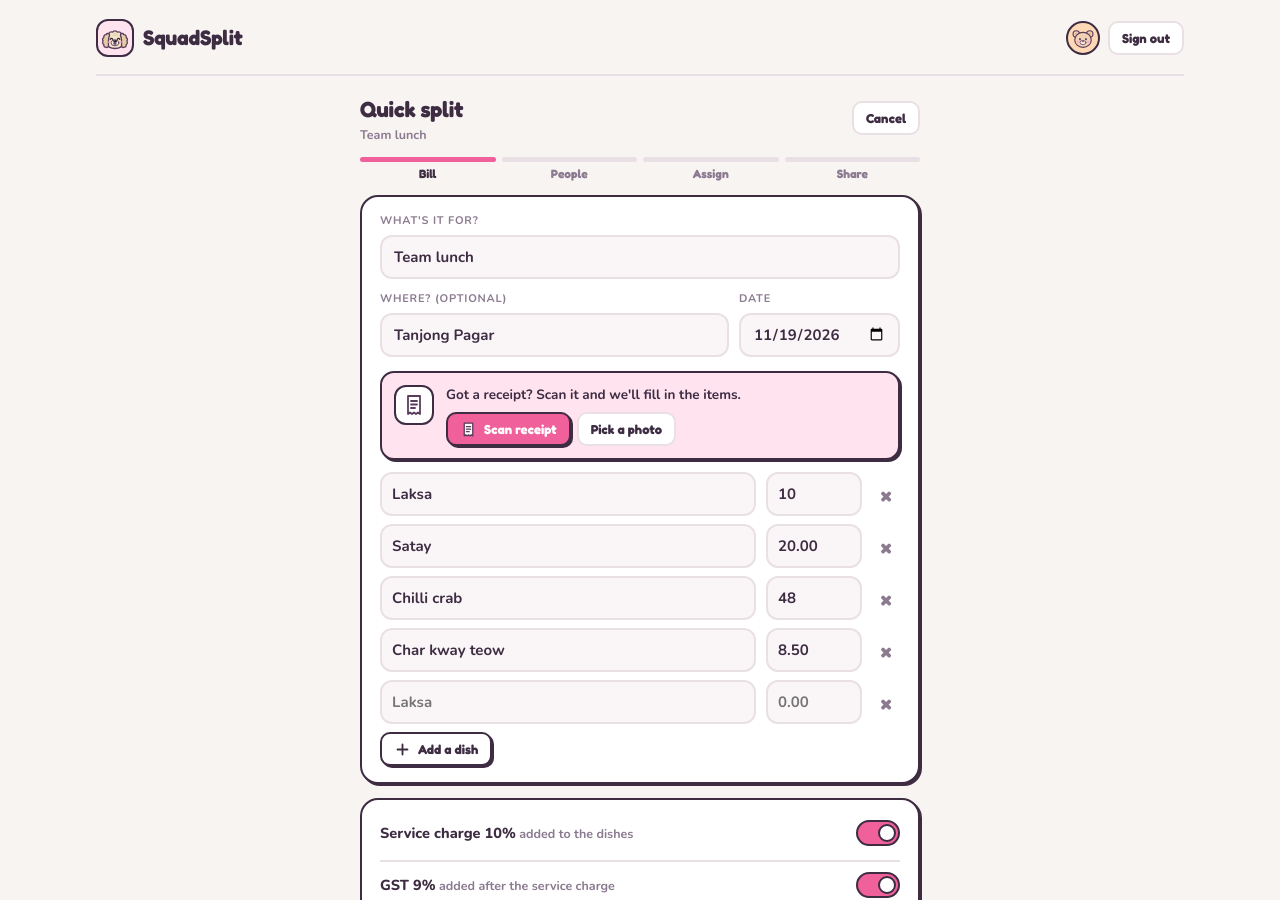
Test: Quick split: making one › builds the README example step by step and saves it, landing on its card
Earlier steps of the test are not shown.
Later steps or results of the test are not shown.
Type "Iced barley (2)" into the field with placeholder "Laksa".
click(568, 702); type("Iced barley (2)")  # box [380,680,756,724]
Type "5.60" into the field with placeholder "0.00".
click(814, 702); type("5.60")  # box [766,680,862,724]
(page scrolled)
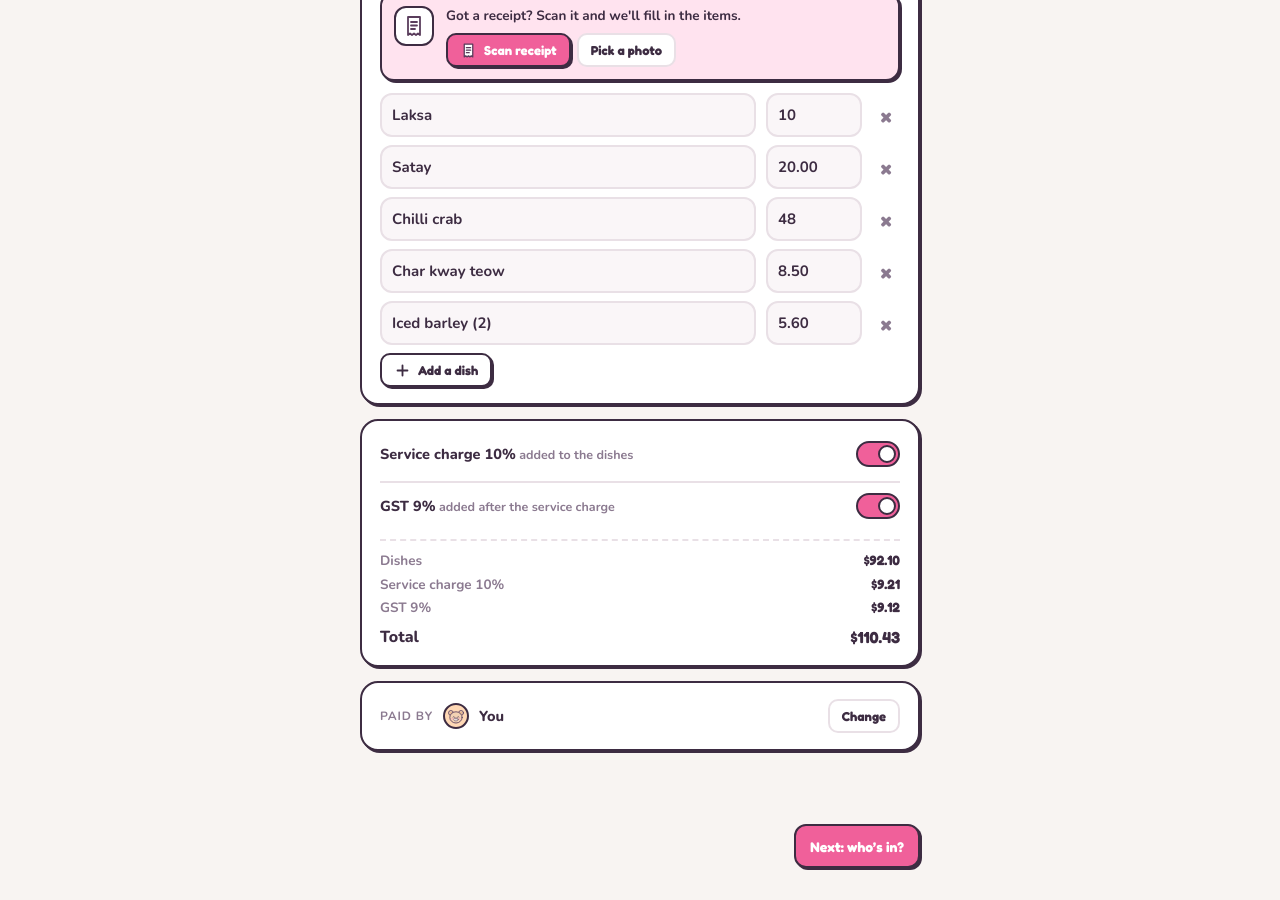
Expected: the text "$92.10" is shown, [864,551,900,571]
Expected: the text "$9.21" is shown, [871,575,900,594]
Expected: the text "$9.12" is shown, [871,598,900,618]
Click the button "Next: who’s in?".
click(857, 846)  # box [794,824,920,868]
(page scrolled)
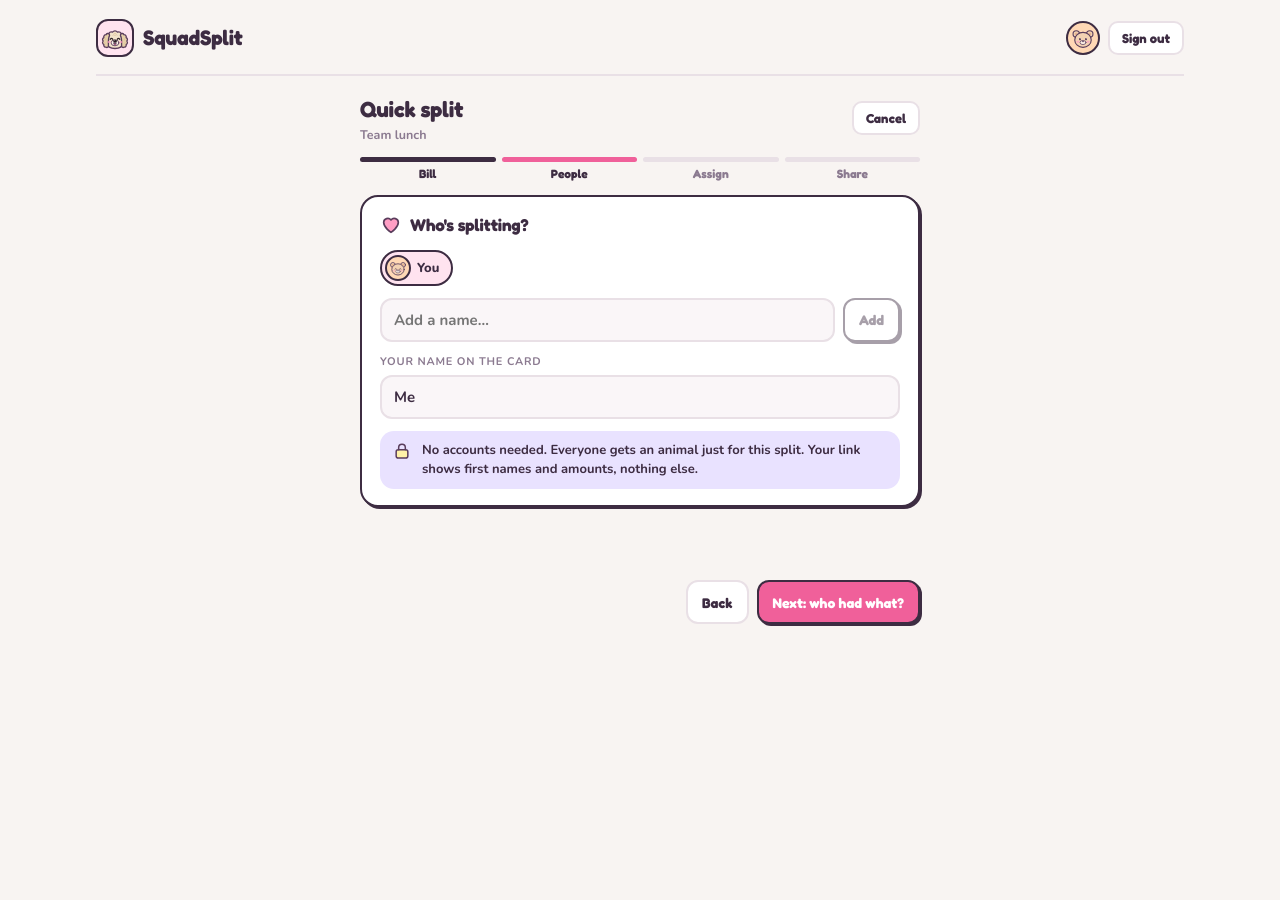
Replace the text in the field labelled "Your name on the card" with "Dan" at (640, 398), box [380,376,900,420]
Type "Wei Ling" into the field labelled "Add a name".
click(608, 320); type("Wei Ling")  # box [380,298,835,342]
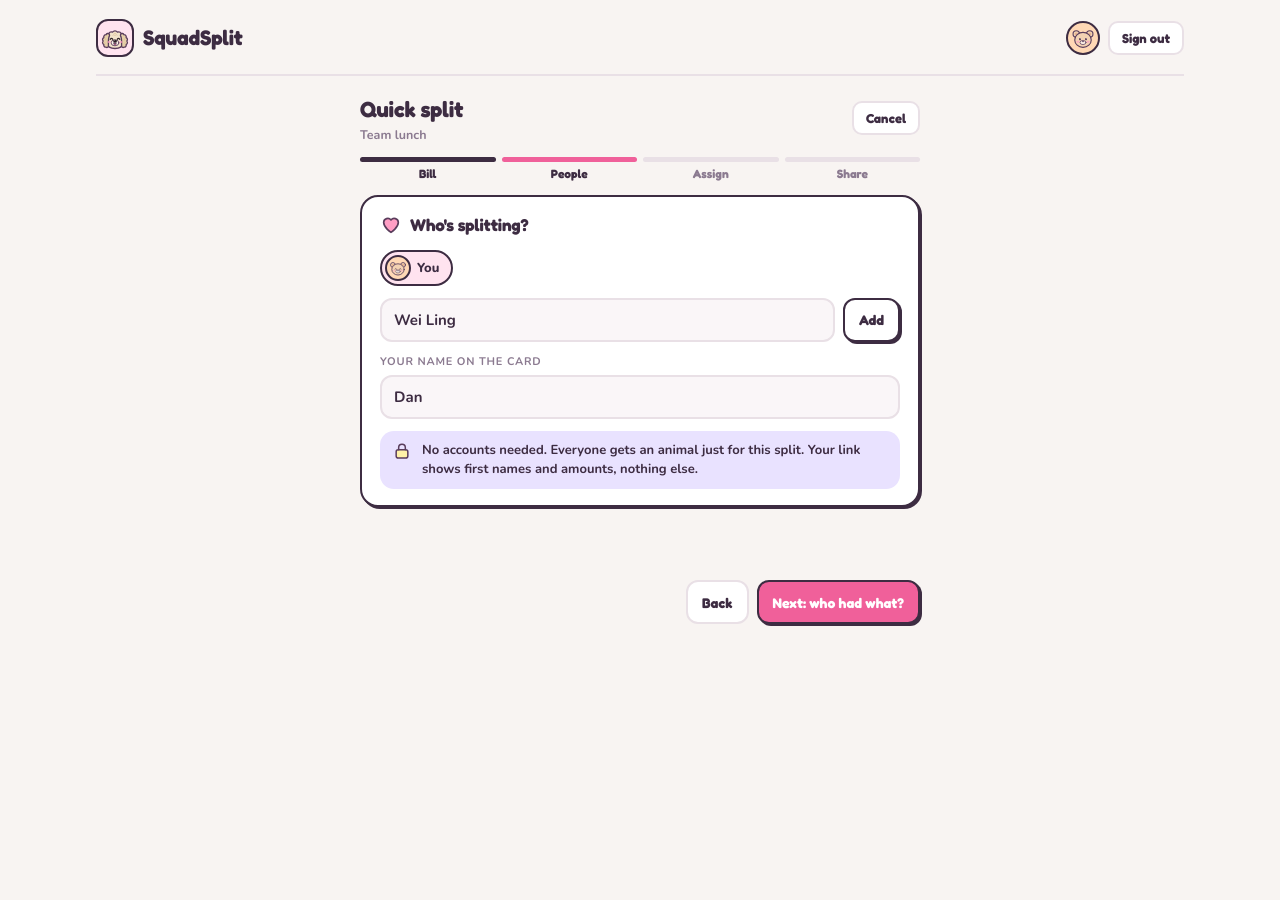
Click the button "Add".
click(872, 320)  # box [843,298,900,342]
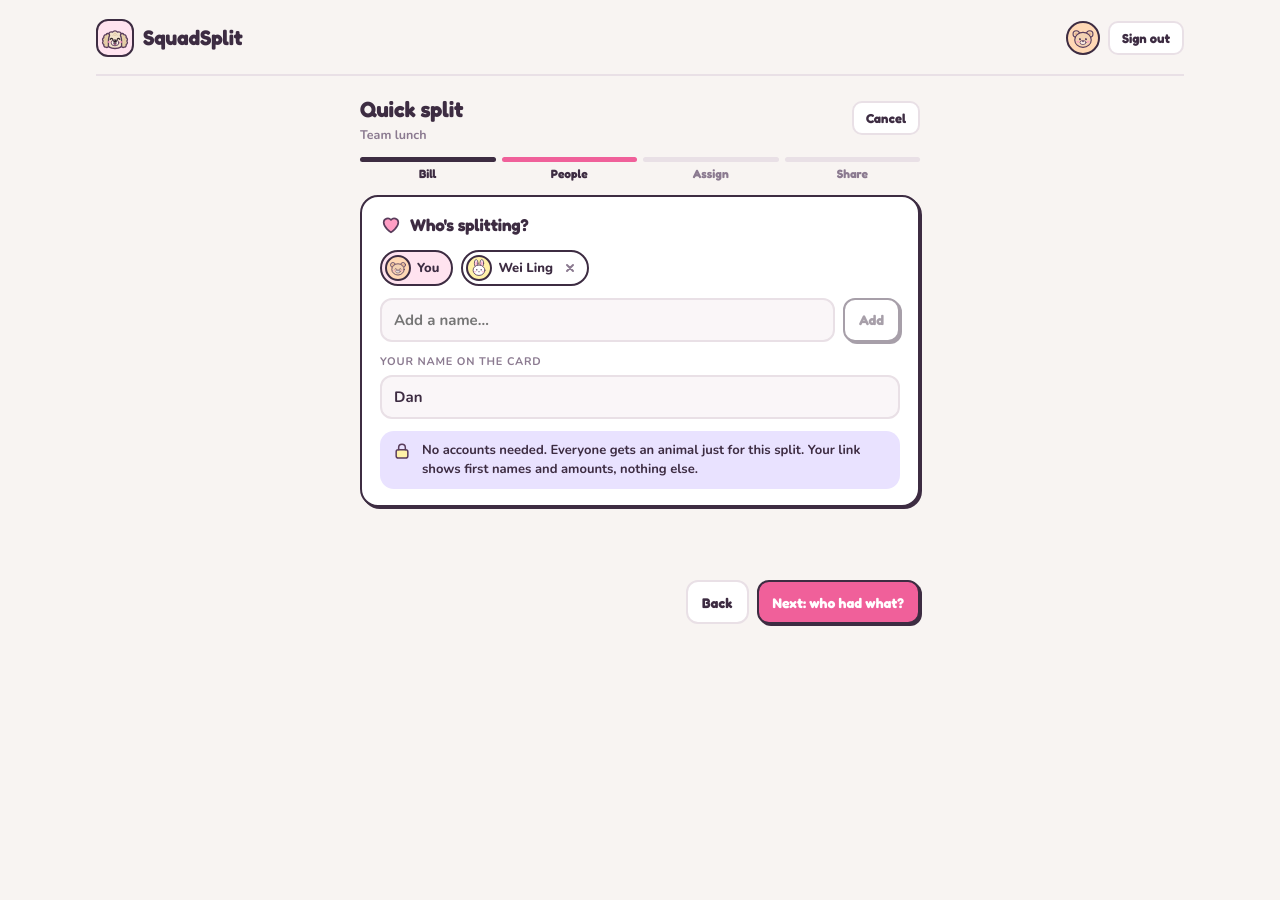
Type "Arjun" into the field labelled "Add a name".
click(608, 320); type("Arjun")  # box [380,298,835,342]
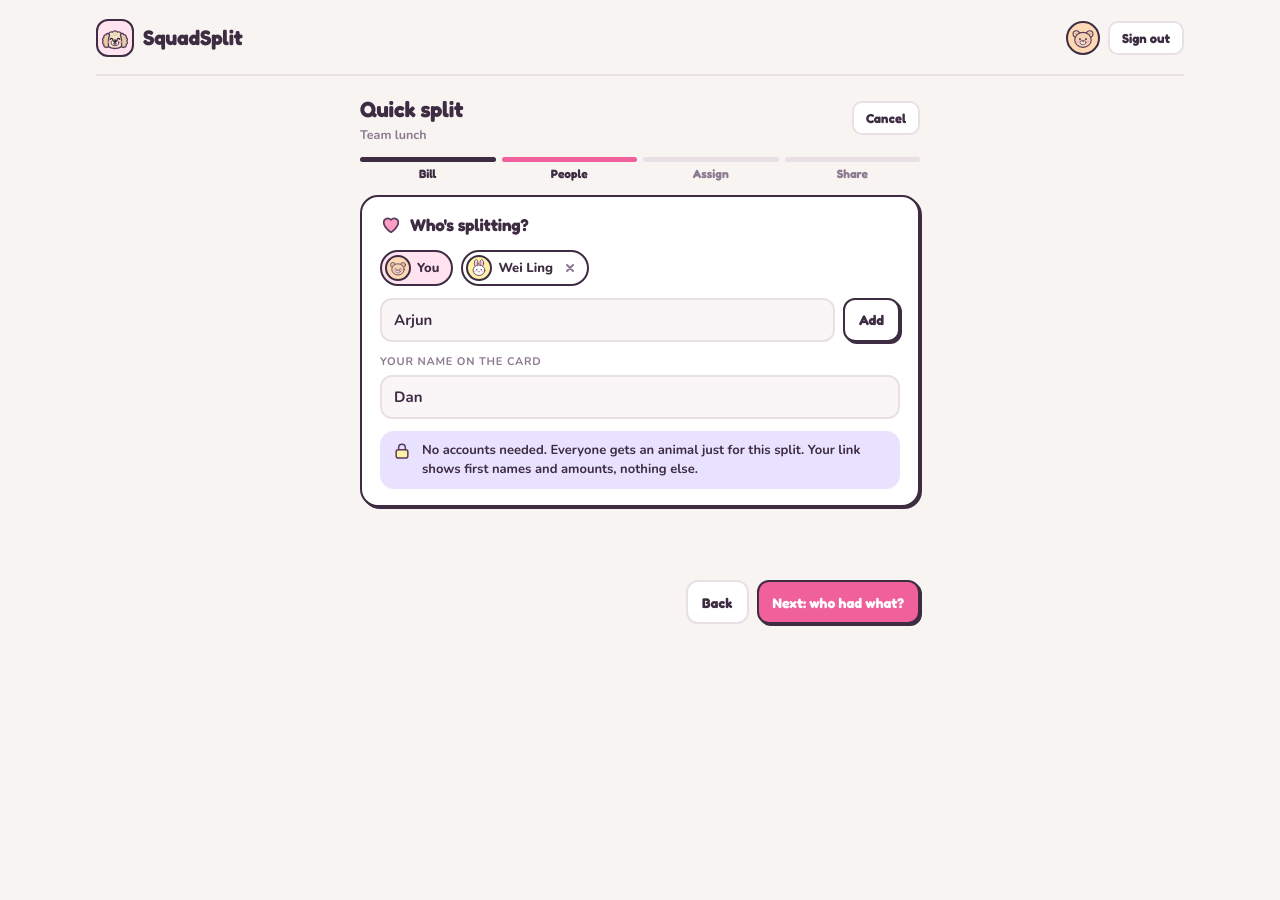
Click the button "Add".
click(872, 320)  # box [843,298,900,342]
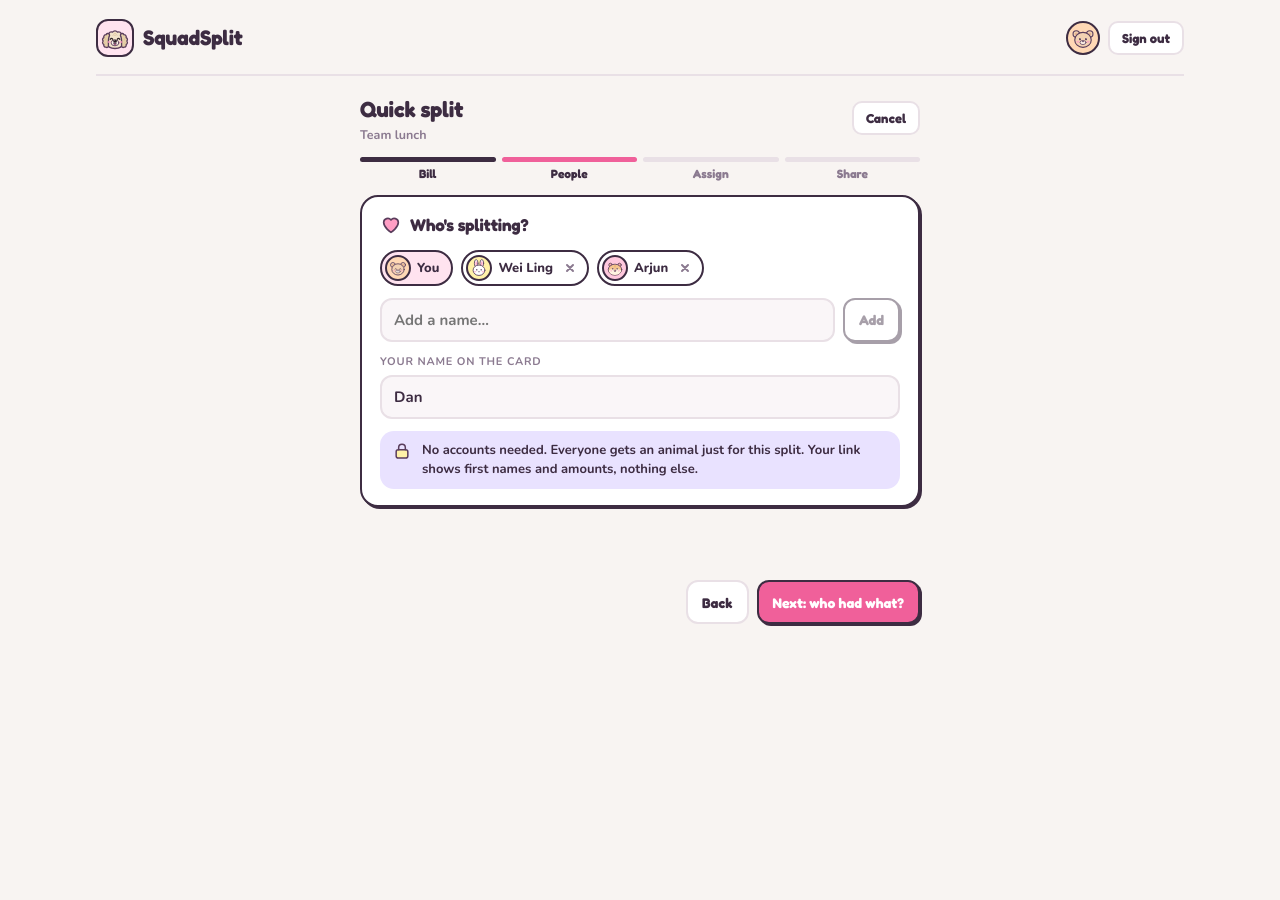
Expected: the list named "Who's splitting" reads "You Wei Ling Arjun", [380,250,704,286]
